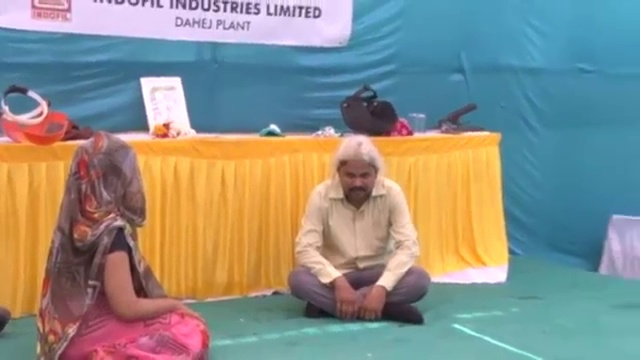helmet_off: (62, 136, 146, 228), (333, 137, 380, 203)
person: (31, 131, 213, 360), (287, 135, 432, 328)
